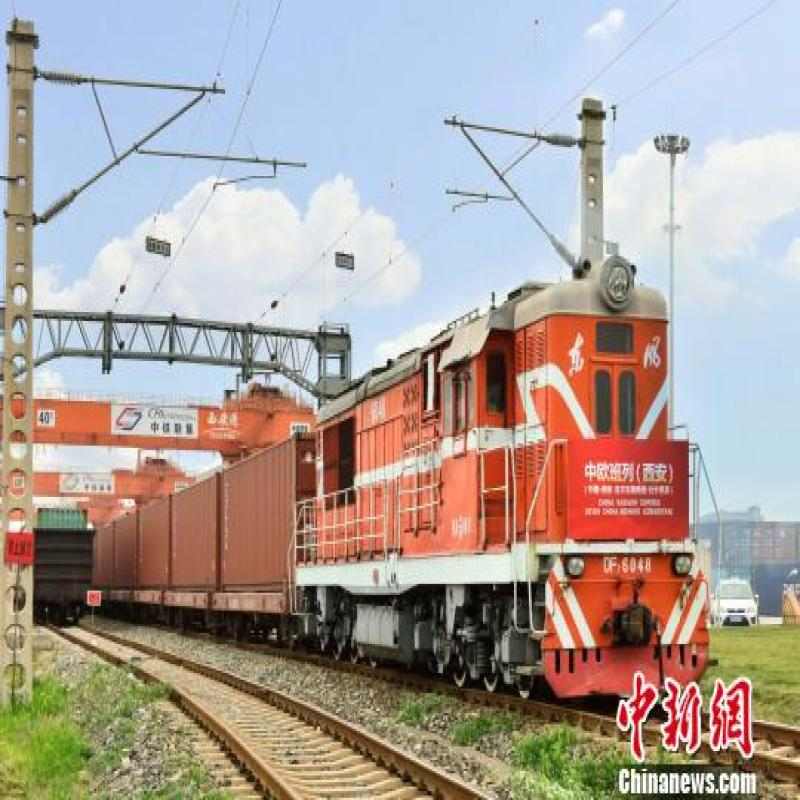train: (299, 249, 719, 706)
